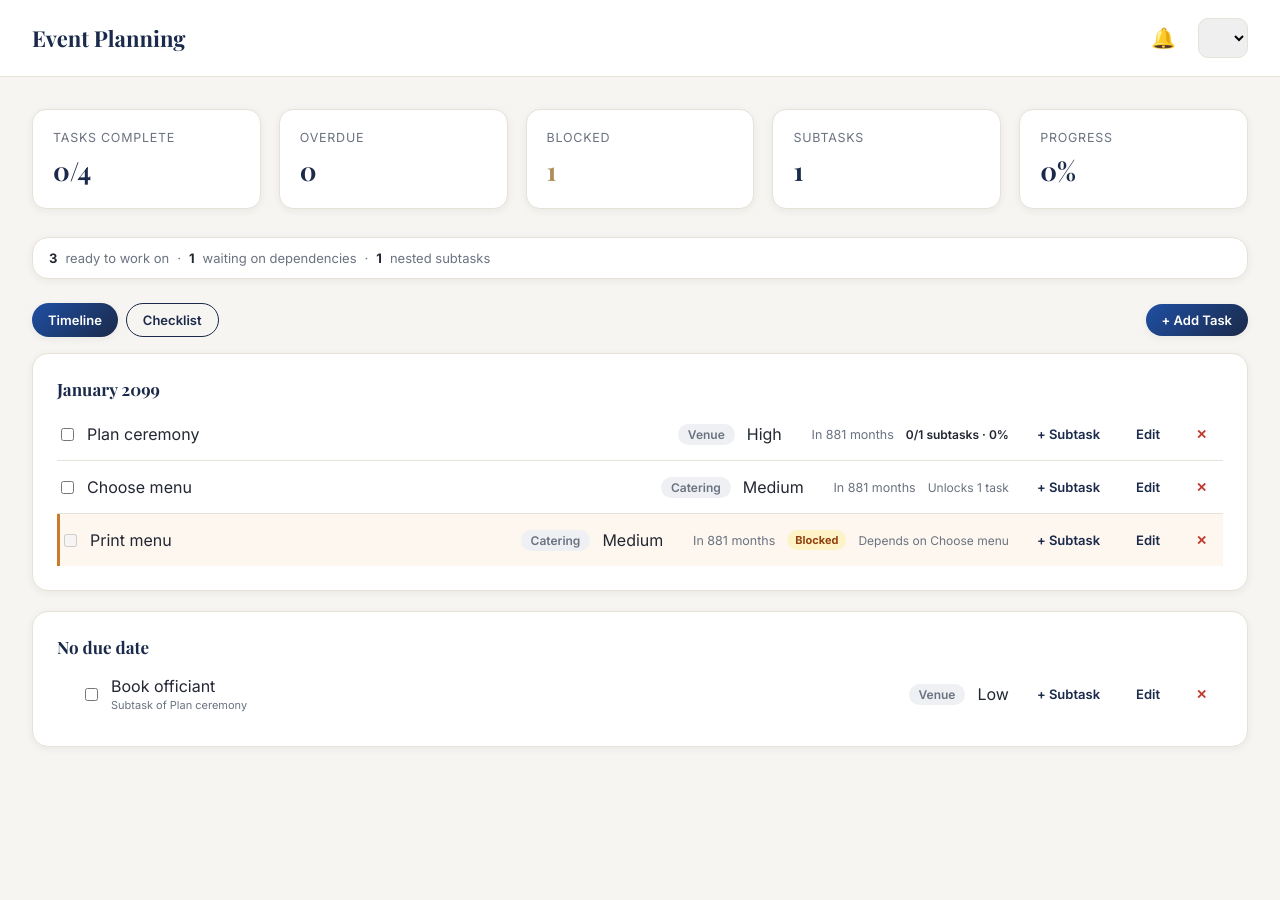
it: Planning subtask creation › keeps the modal open and reports a create failure
This screenshot has width=1280, height=900.
Expected: the text "Plan ceremony" is shown, 87,424 -> 199,444
Click the button "+ Add Task".
click(1197, 320)  # box 1146,304 -> 1248,336
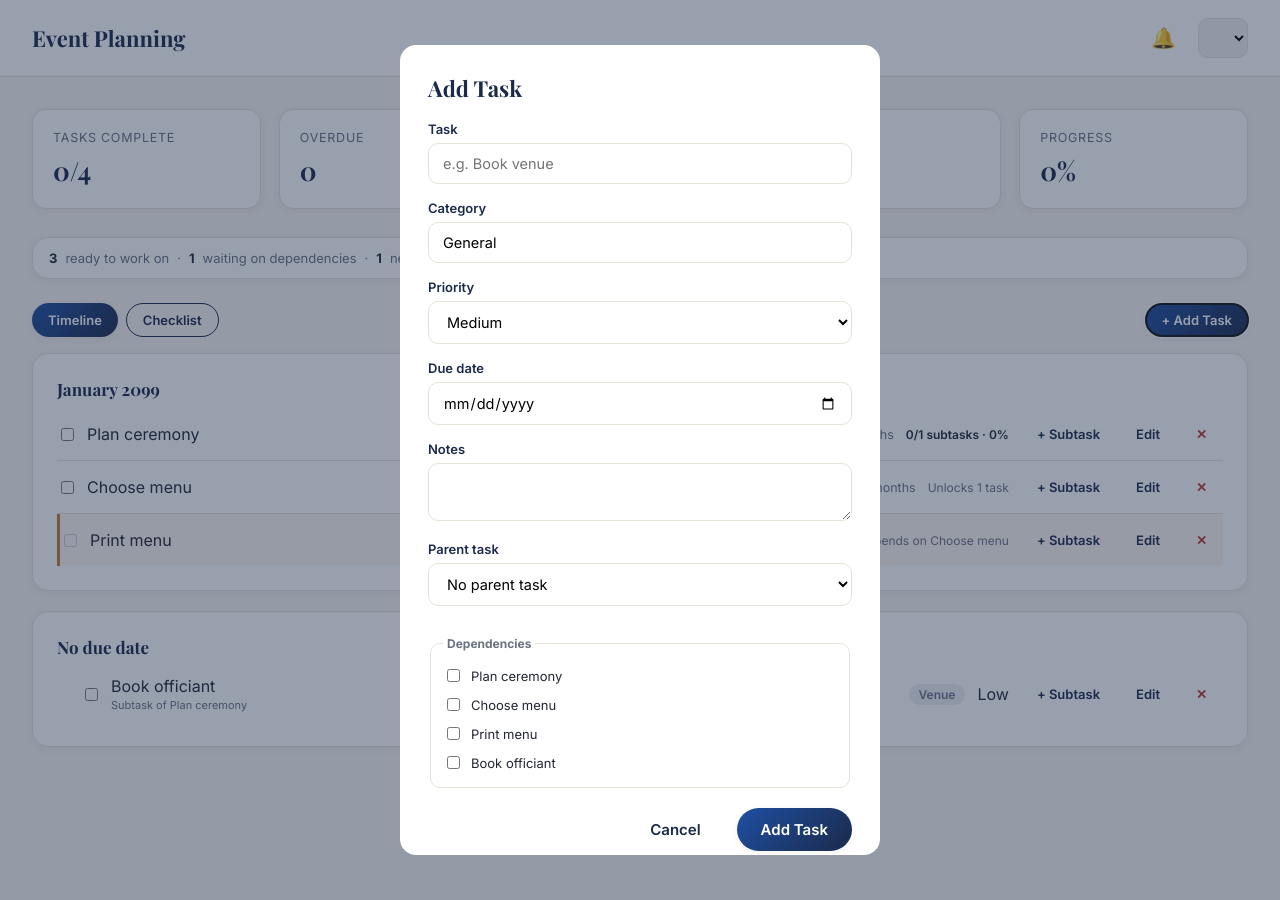
Type "Broken task" into the field with placeholder "e.g. Book venue".
click(640, 164); type("Broken task")  # box 428,143 -> 852,184
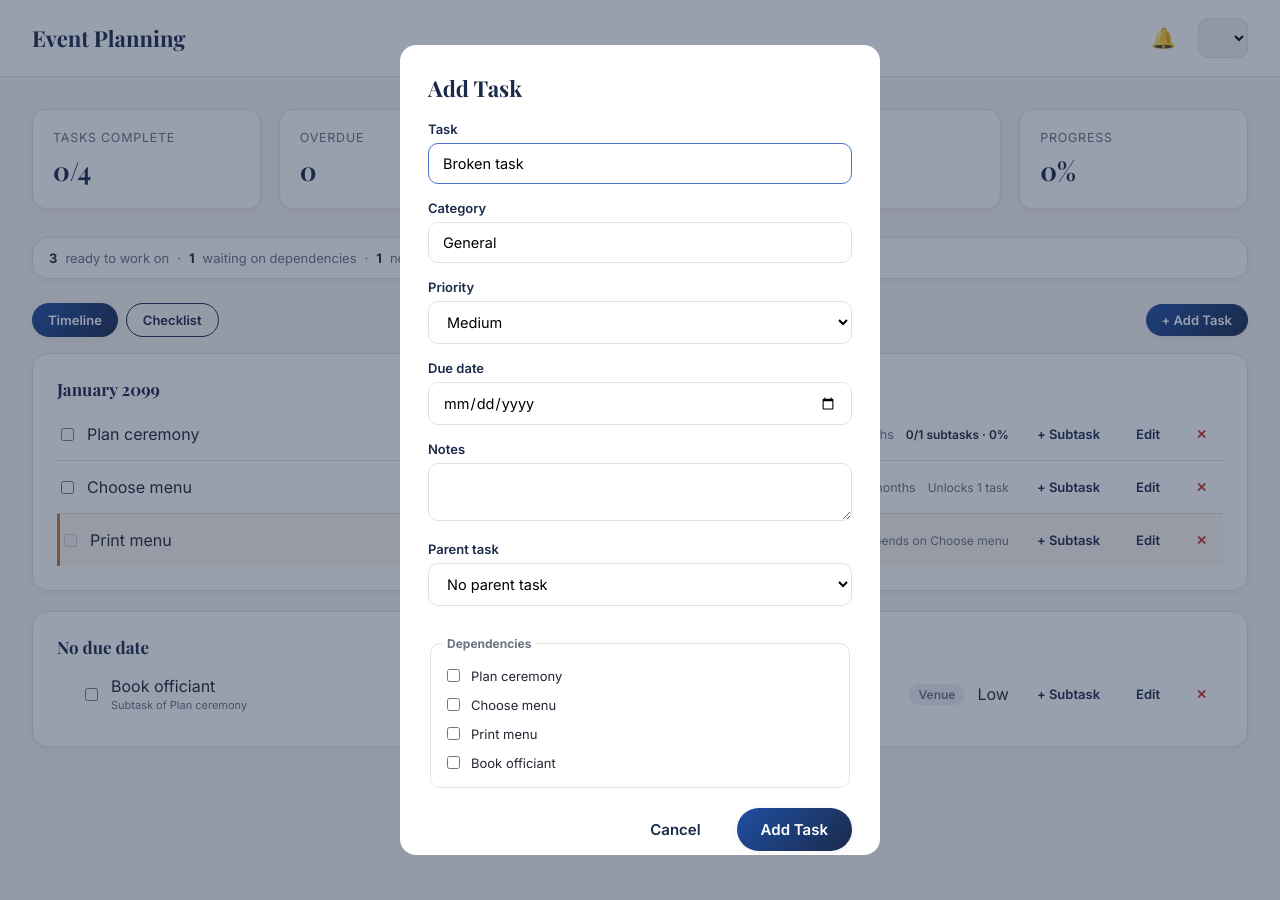
Click the button "Add Task".
click(794, 830)  # box 737,808 -> 852,851
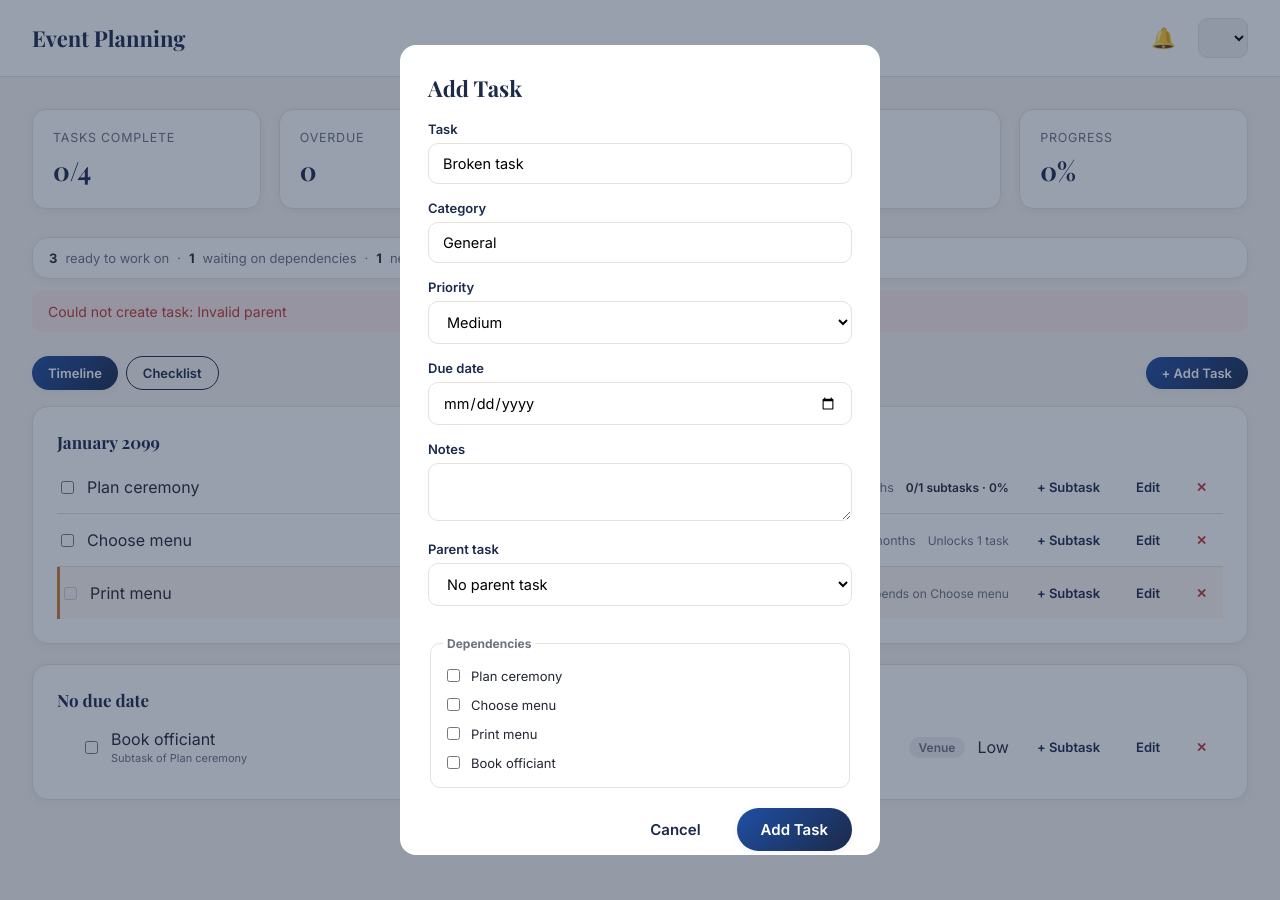
Expected: the heading "Add Task" is shown, 428,73 -> 522,103
Expected: the message reads "Could not create task: Invalid parent", 48,303 -> 287,320
